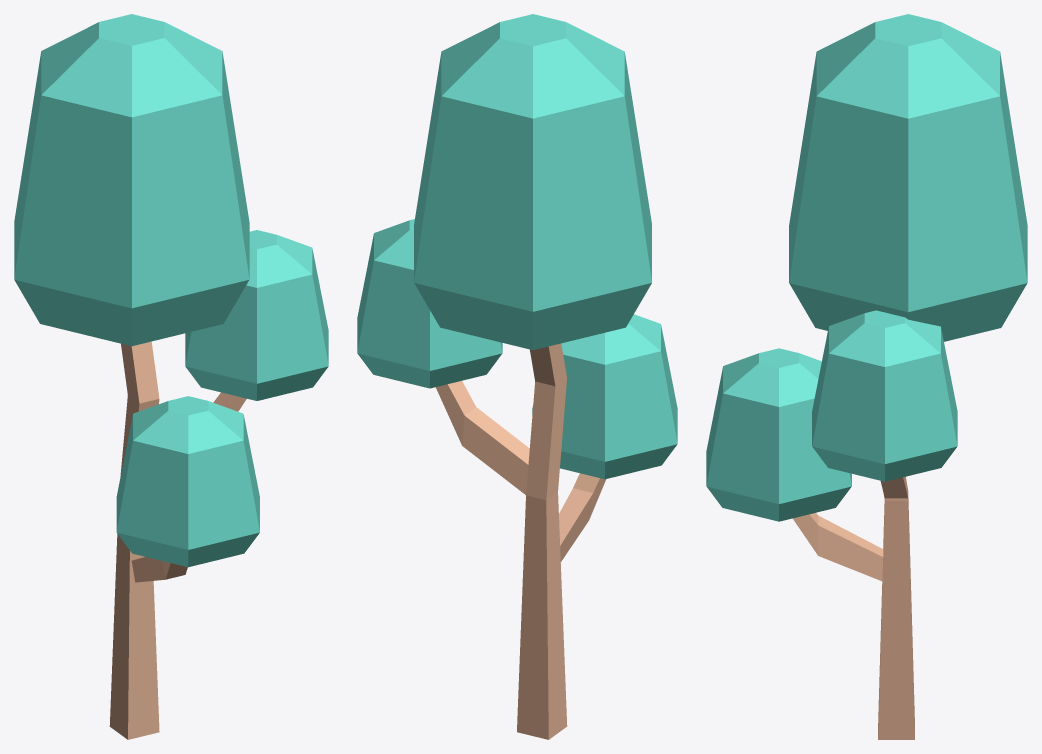
The model's file is tree_thin.glb.
The picture shows the model from 3 angles, left to right: view 1: azimuth 30°, elevation 25°; view 2: azimuth 150°, elevation 25°; view 3: azimuth 270°, elevation 25°; orthographic projection.
Visible parts, largest first — view 1: tree_thin; view 2: tree_thin; view 3: tree_thin.
Part boxes in pixels (x1,y1,x2,y2): tree_thin: (14,14,328,739); tree_thin: (357,14,677,739); tree_thin: (706,14,1027,739).
Size of the model in its own units: 0.6804 by 1.49 by 0.6165.
